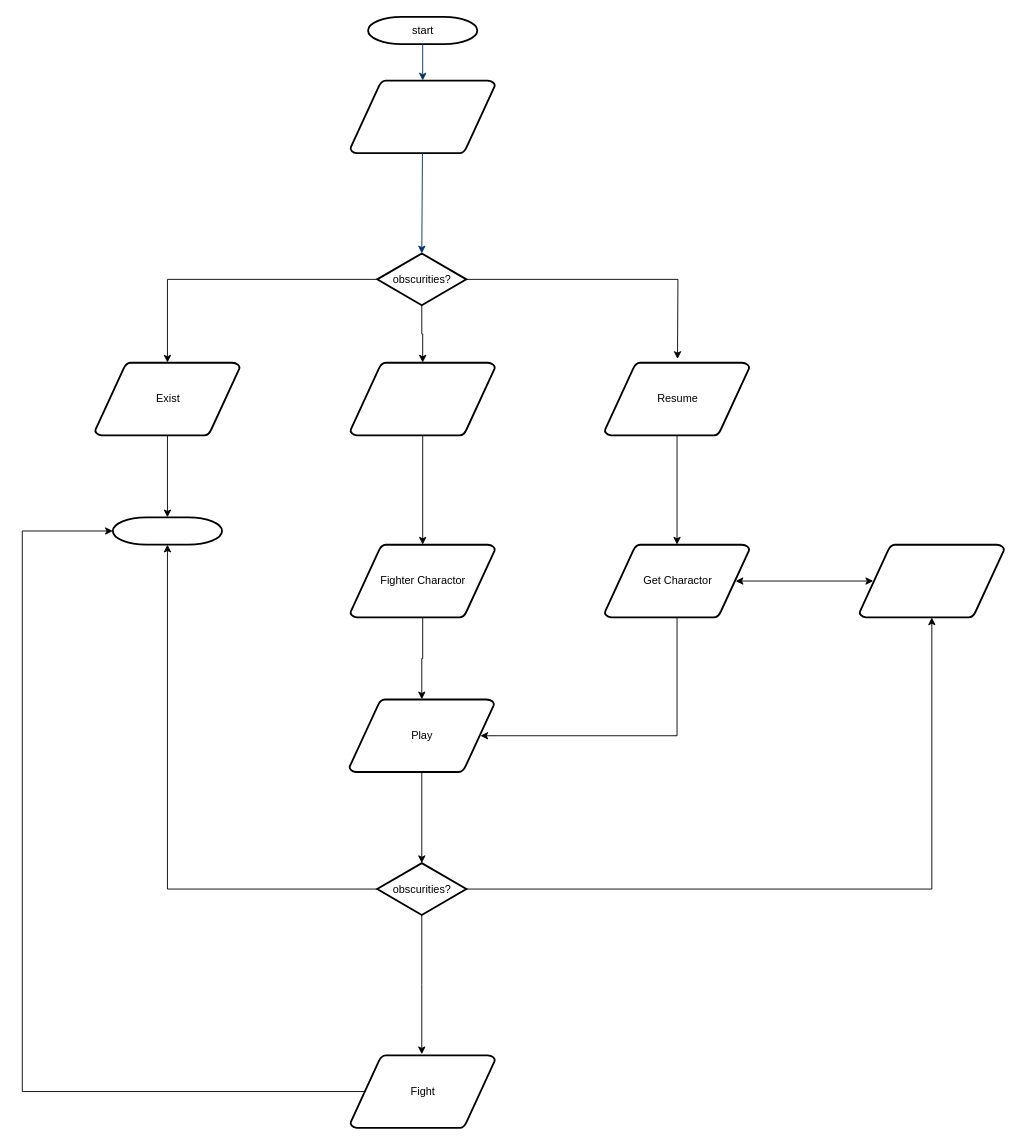
The diagram is 1021 pixels wide and 1144 high, and some of its shapes have lost their labels. Here are the shapes that lost their labels. From the top down, the centre of each, then its label:
(422,116): Main Option
(422,398): New Game
(166,530): end
(931,580): Repository
